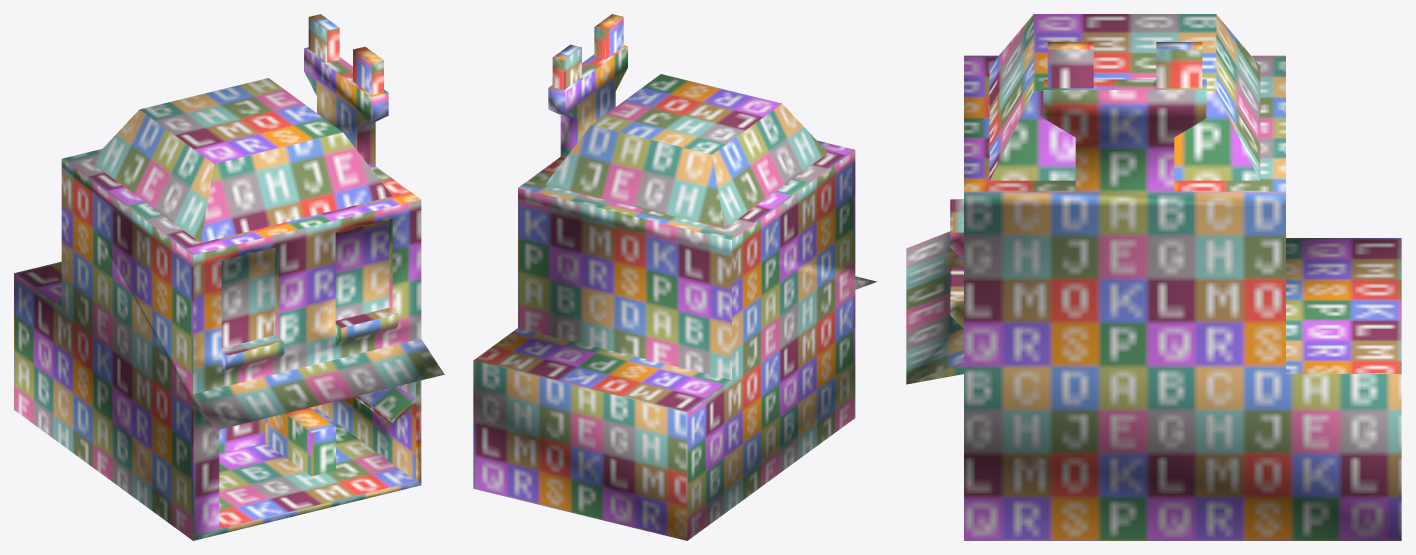
Rendered from backery_scene.obj.
The picture shows the model from 3 angles, left to right: view 1: azimuth 30°, elevation 25°; view 2: azimuth 150°, elevation 25°; view 3: azimuth 270°, elevation 25°; orthographic projection. The views are drawn at different scales.
Parts seen in each view (by area): view 1: Cube4; view 2: Cube4; view 3: Cube4.
Boxes of the visible parts, box(x1,y1,x2,y2) form: Cube4: box(14, 14, 444, 540); Cube4: box(473, 14, 876, 540); Cube4: box(906, 14, 1401, 540).
Size of the model in its own units: 274 by 460 by 422.
1 material, 1 textured.
